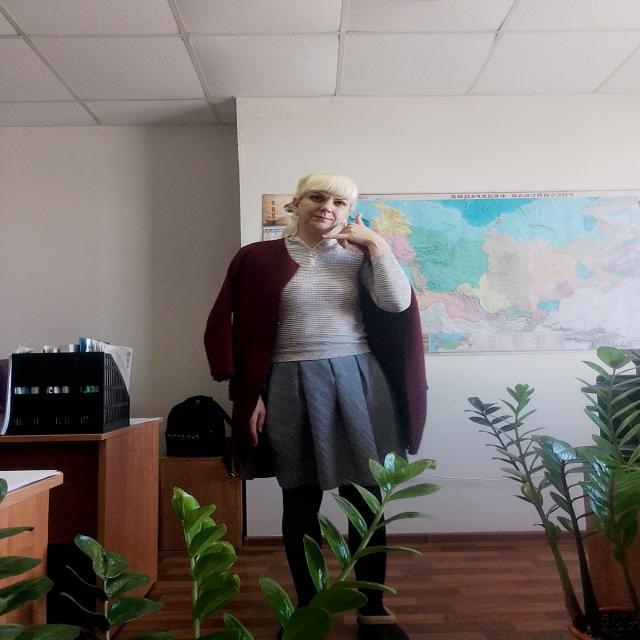call: (321, 214, 378, 248)
